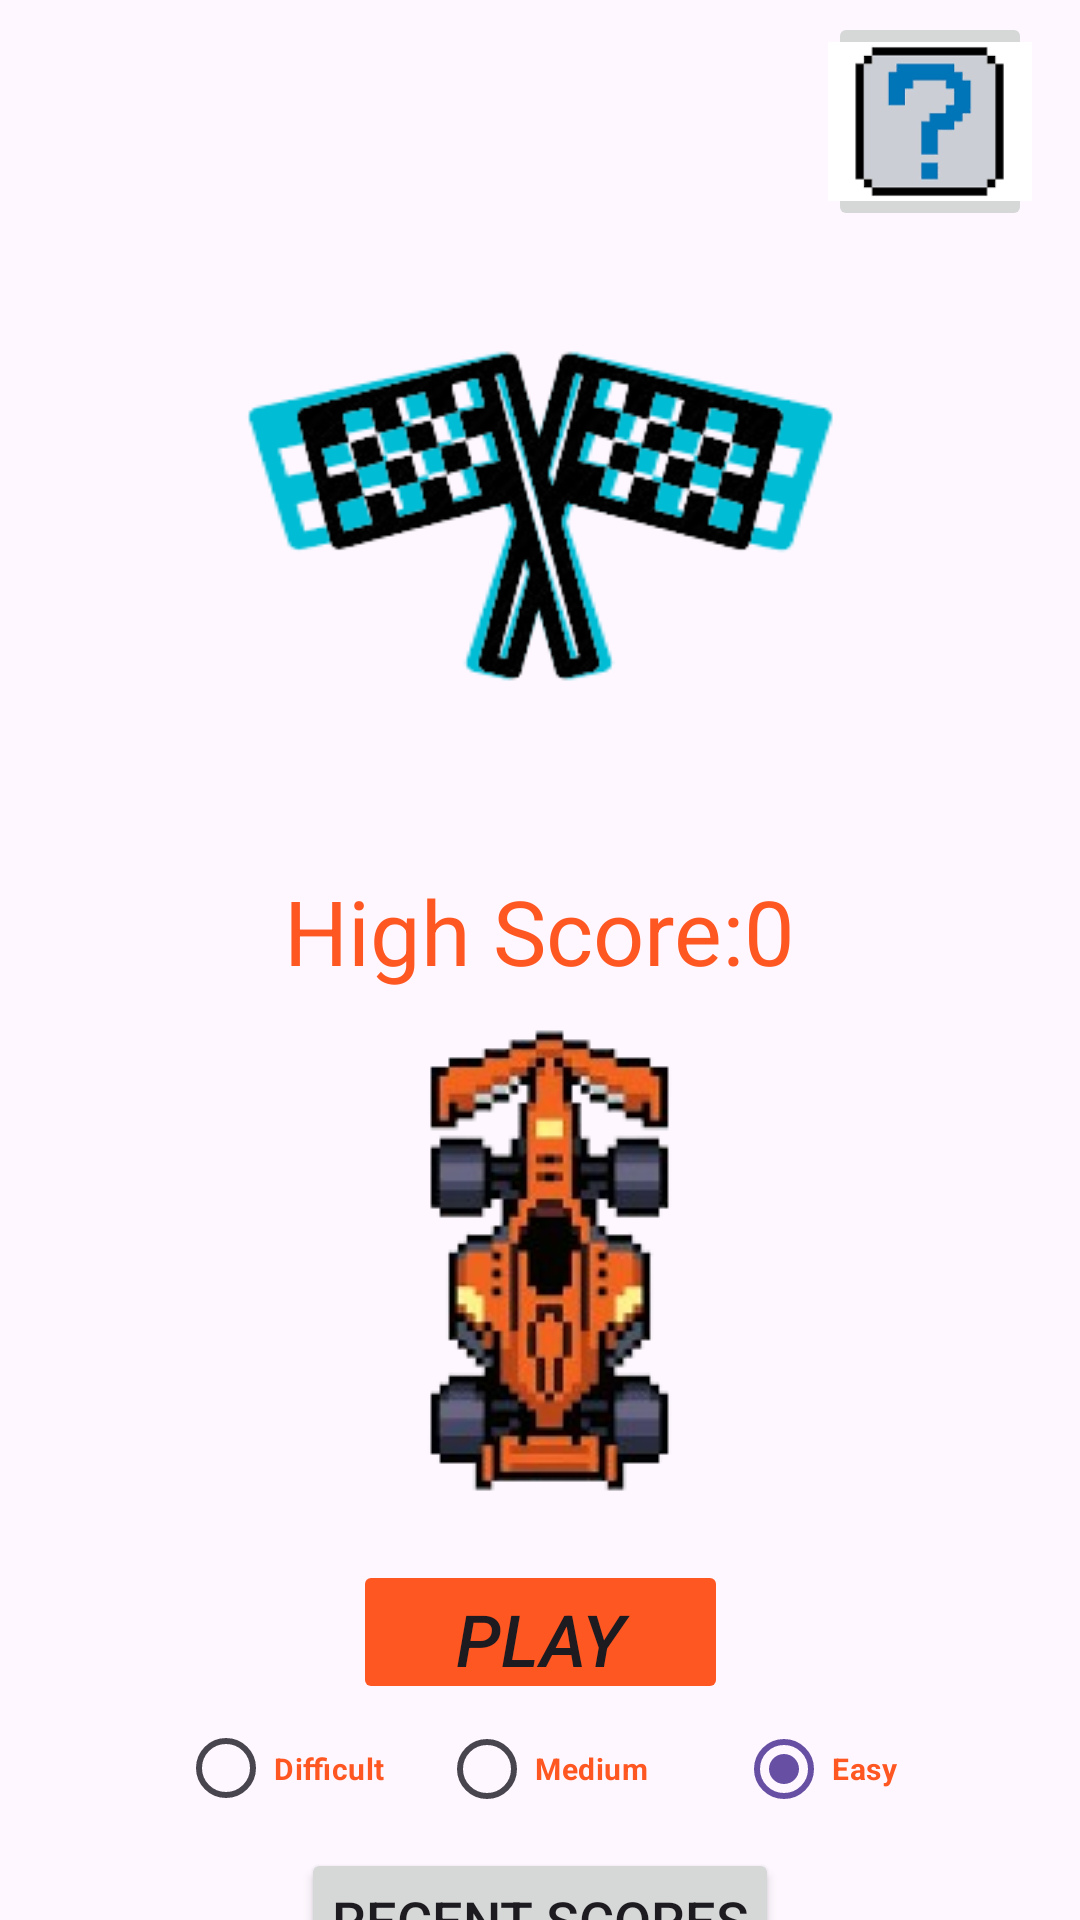

Named icons in this screenshot (1080px×1920px) and their centers, (x=x, y=y):
question: (x=930, y=121)
